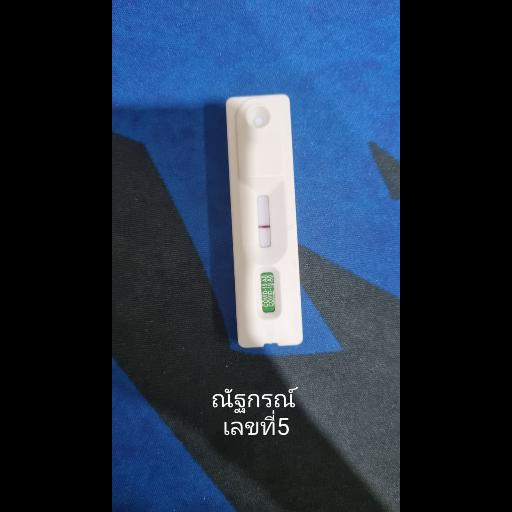Neg: (224, 94, 303, 349)
